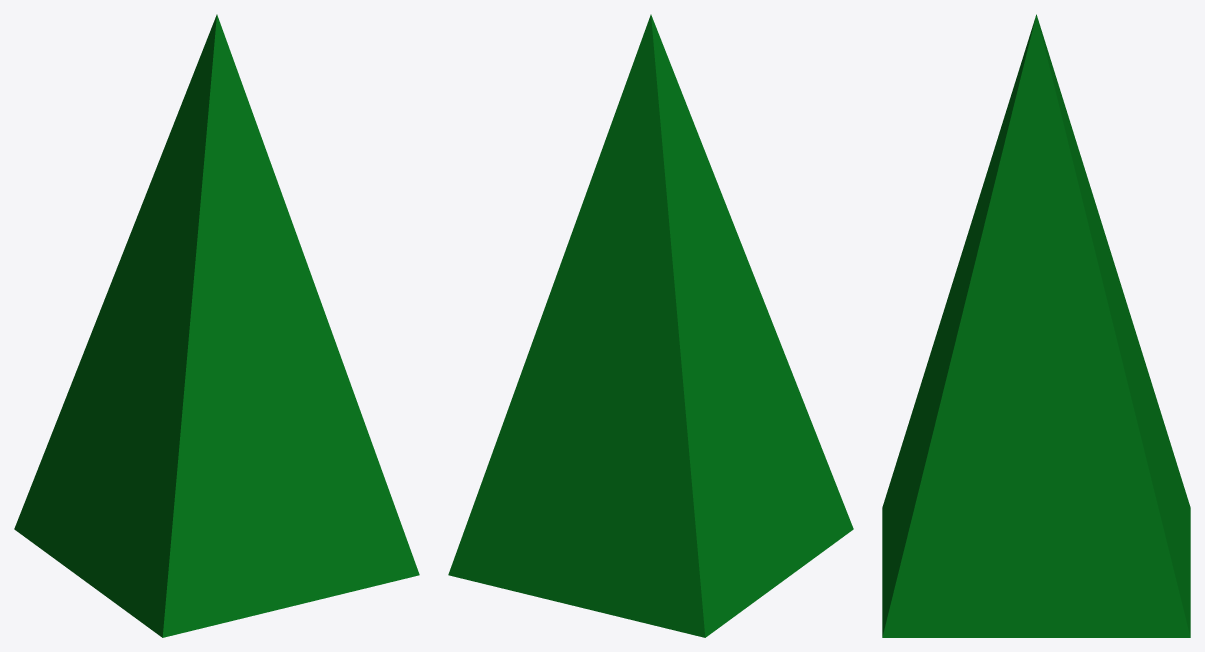
Rendered from ChoppingTree.fbx.
3 renders of one model, left to right at view 1: azimuth 30°, elevation 25°; view 2: azimuth 150°, elevation 25°; view 3: azimuth 270°, elevation 25°, orthographic. The views are drawn at different scales.
Visible parts, largest first — view 1: ChoppingTree; view 2: ChoppingTree; view 3: ChoppingTree.
Boxes of the visible parts, left/top/right/bottom form: ChoppingTree: left=14, top=14, right=419, bottom=637; ChoppingTree: left=448, top=14, right=853, bottom=637; ChoppingTree: left=882, top=14, right=1190, bottom=637.
Bounding box in the file's own units: 200 × 400 × 200.
